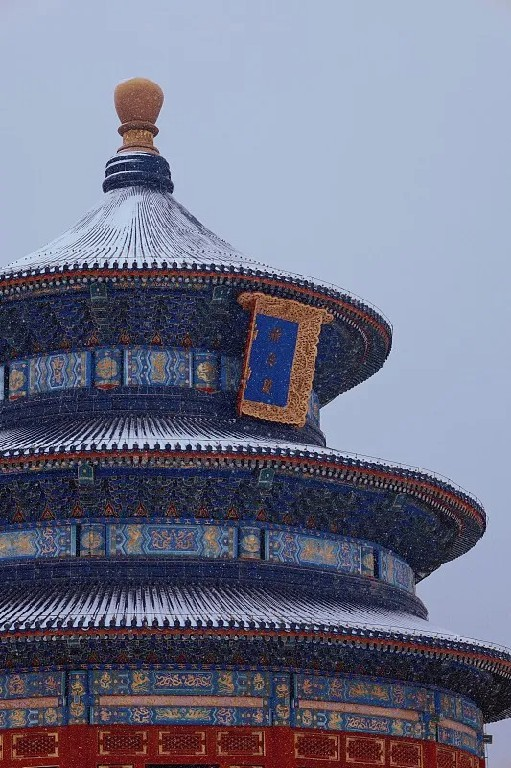Heaven: (1, 77, 511, 768)
